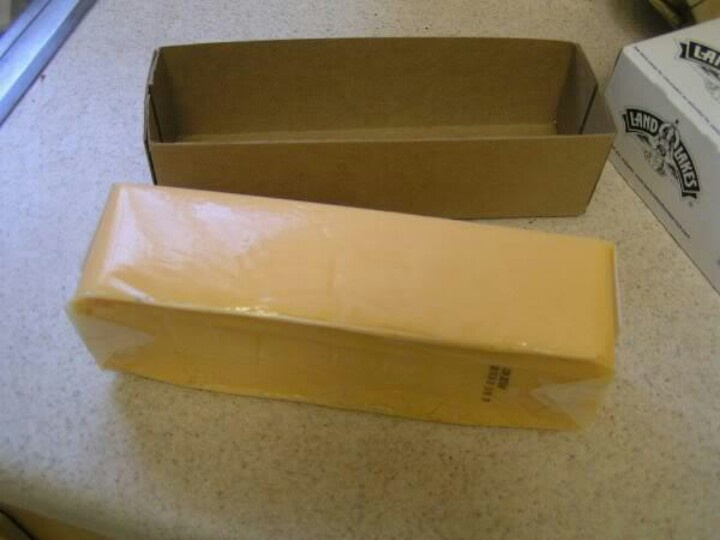cheese: (52, 182, 643, 453)
